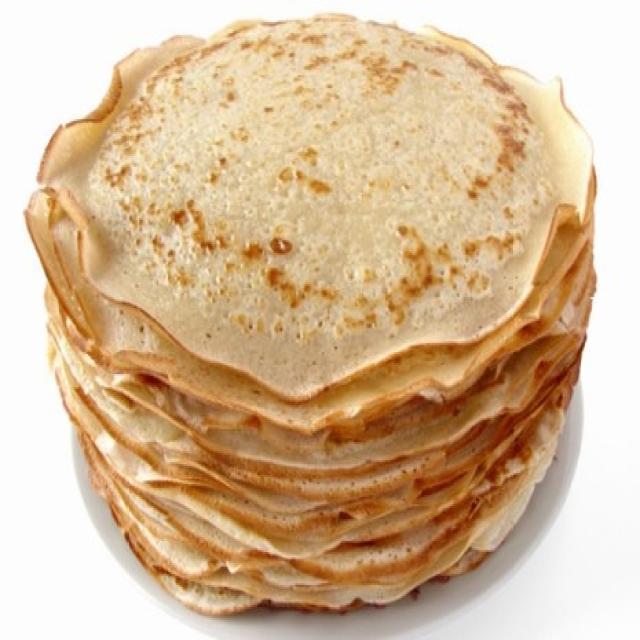蛋糕甜品: (24, 13, 606, 618)
